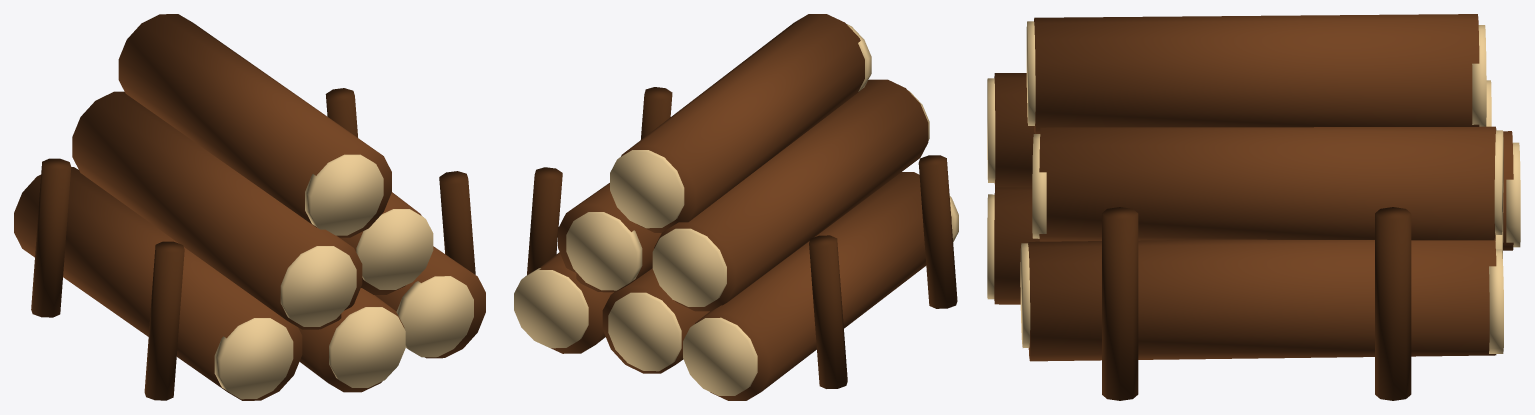
Rendered from log-pile.glb.
3 views of the same model, side by side, from view 1: azimuth 30°, elevation 25°; view 2: azimuth 150°, elevation 25°; view 3: azimuth 270°, elevation 25° (orthographic). The views are drawn at different scales.
Parts seen in each view (by area): view 1: Cylinder.009, Cylinder.015, Cylinder, Cylinder.001, Cylinder.016, Cylinder.004, Cylinder.010, Cylinder.007, Cylinder.013, Cylinder.019, Cylinder.018, Cylinder.020 (+4 smaller); view 2: Cylinder.009, Cylinder.015, Cylinder, Cylinder.014, Cylinder.008, Cylinder.011, Cylinder.017, Cylinder.002, Cylinder.005, Cylinder.019, Cylinder.018, Cylinder.021 (+5 smaller); view 3: Cylinder.015, Cylinder.012, Cylinder.006, Cylinder.020, Cylinder.021, Cylinder.009, Cylinder.003, Cylinder.008, Cylinder.002, Cylinder.013, Cylinder.017, Cylinder.007 (+5 smaller).
Boxes of the visible parts, box(x1,y1,x2,y2) form: Cylinder.009: box(72, 91, 362, 329); Cylinder.015: box(118, 14, 391, 237); Cylinder: box(14, 167, 302, 400); Cylinder.001: box(214, 318, 293, 399); Cylinder.016: box(305, 154, 383, 235); Cylinder.004: box(329, 307, 405, 387); Cylinder.010: box(280, 246, 356, 326); Cylinder.007: box(396, 276, 473, 357); Cylinder.013: box(356, 209, 433, 289); Cylinder.019: box(31, 158, 71, 317); Cylinder.018: box(144, 241, 184, 400); Cylinder.020: box(439, 171, 475, 274); Cylinder.009: box(654, 79, 928, 311); Cylinder.015: box(621, 14, 864, 232); Cylinder: box(695, 172, 951, 400); Cylinder.014: box(566, 212, 642, 290); Cylinder.008: box(514, 268, 588, 348); Cylinder.011: box(652, 228, 726, 306); Cylinder.017: box(610, 150, 684, 228); Cylinder.002: box(683, 317, 757, 395); Cylinder.005: box(608, 292, 681, 371); Cylinder.019: box(809, 235, 847, 388); Cylinder.018: box(918, 155, 957, 308); Cylinder.021: box(527, 167, 562, 274); Cylinder.015: box(1034, 14, 1479, 133); Cylinder.012: box(1039, 126, 1496, 241); Cylinder.006: box(1028, 238, 1496, 361); Cylinder.020: box(1102, 207, 1138, 400); Cylinder.021: box(1375, 207, 1411, 400); Cylinder.009: box(994, 73, 1034, 187); Cylinder.003: box(994, 185, 1039, 304); Cylinder.008: box(1489, 249, 1503, 353); Cylinder.002: box(1506, 142, 1520, 247); Cylinder.013: box(1032, 134, 1046, 238); Cylinder.017: box(1472, 25, 1486, 126); Cylinder.007: box(1020, 243, 1030, 347).
Bounding box in the file's own units: 0.8107 × 0.552 × 0.9376.
